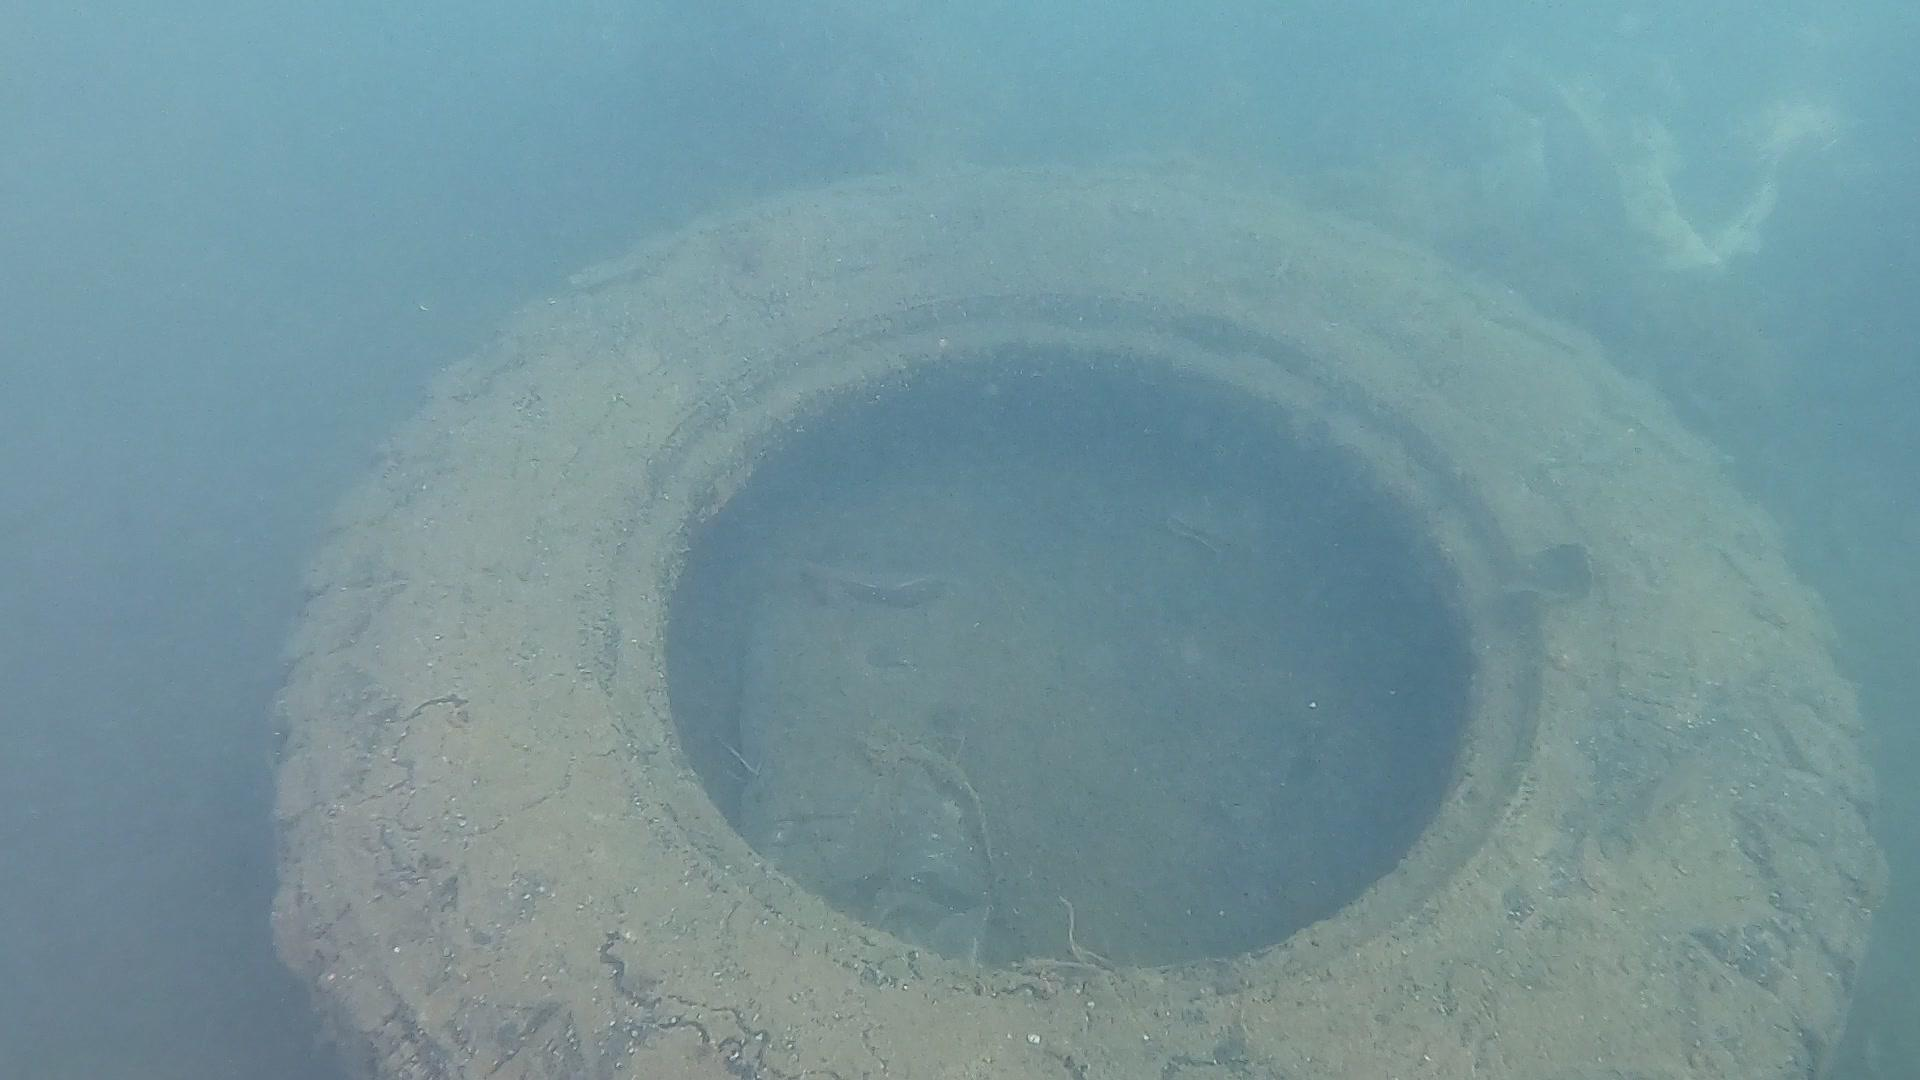tire: (260, 156, 1890, 1080)
